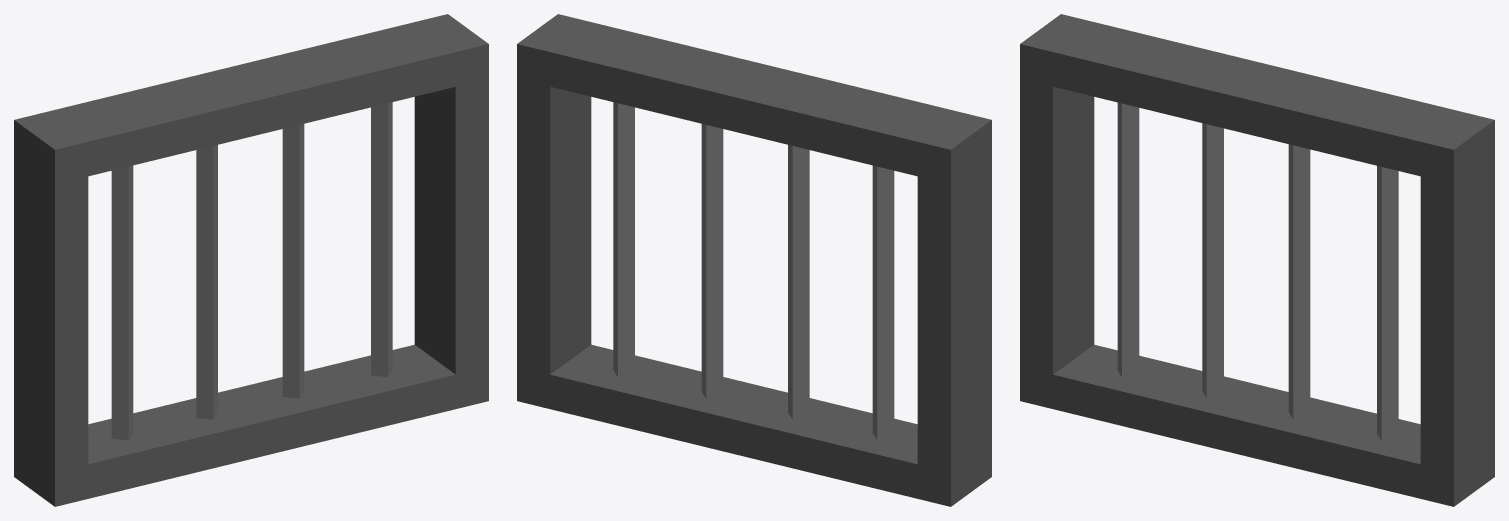
File: CellWindow.glb
3 renders of one model, left to right at view 1: azimuth 30°, elevation 25°; view 2: azimuth 150°, elevation 25°; view 3: azimuth 330°, elevation 25°, orthographic.
Parts seen in each view (by area): view 1: Frame, Bars; view 2: Frame, Bars; view 3: Frame, Bars.
Part boxes in pixels (x1=…): Frame: x1=14, y1=14, x2=488, y2=506; Bars: x1=111, y1=102, x2=392, y2=440; Frame: x1=517, y1=14, x2=991, y2=506; Bars: x1=613, y1=102, x2=894, y2=440; Frame: x1=1020, y1=14, x2=1494, y2=506; Bars: x1=1117, y1=102, x2=1398, y2=440.
Size of the model in its own units: 2 by 1.58 by 0.3282.
2 materials, 2 textured.
